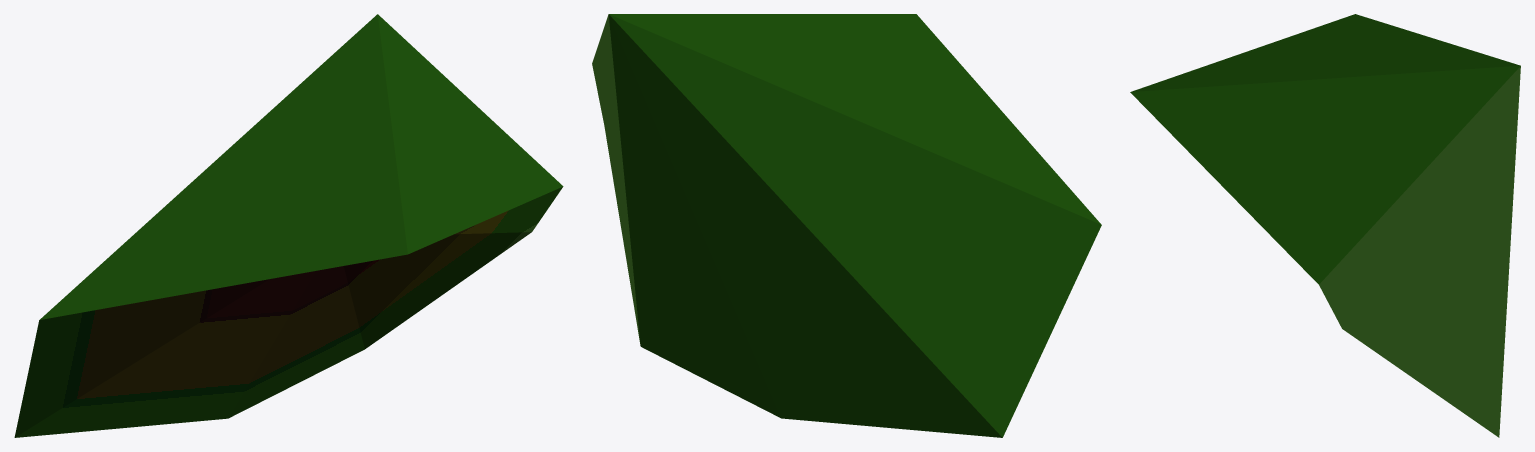
Rendered from goblin_ear.glb.
3 views of the same model, side by side, from view 1: azimuth 30°, elevation 25°; view 2: azimuth 150°, elevation 25°; view 3: azimuth 270°, elevation 25° (orthographic). The views are drawn at different scales.
Parts seen in each view (by area): view 1: goblin; view 2: goblin; view 3: goblin.
Boxes of the visible parts, box(x1,y1,x2,y2) form: goblin: box(14, 14, 563, 437); goblin: box(592, 14, 1101, 437); goblin: box(1130, 14, 1520, 437).
Bounding box in the file's own units: 0.8087 × 0.5458 × 0.452.
1 material, 1 textured.
